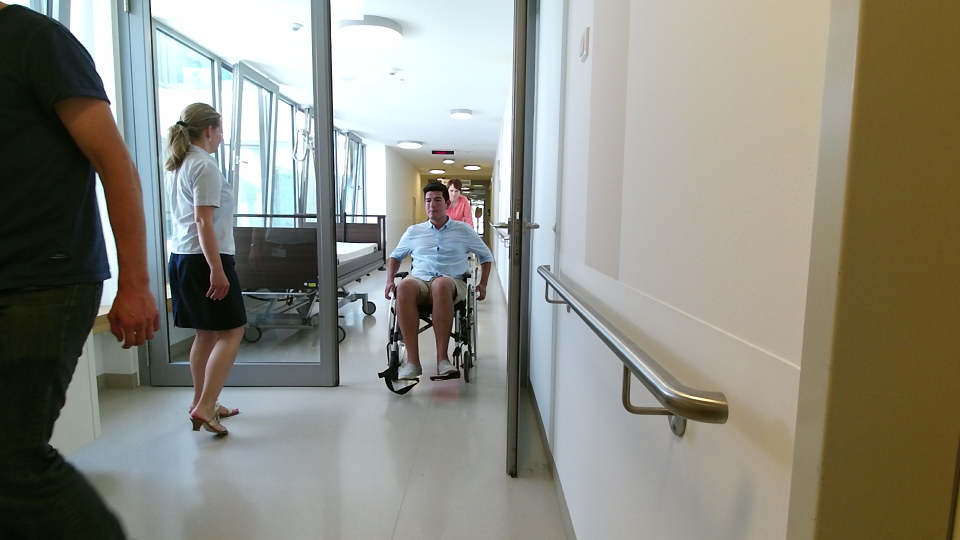wheelchair: (377, 181, 487, 385)
